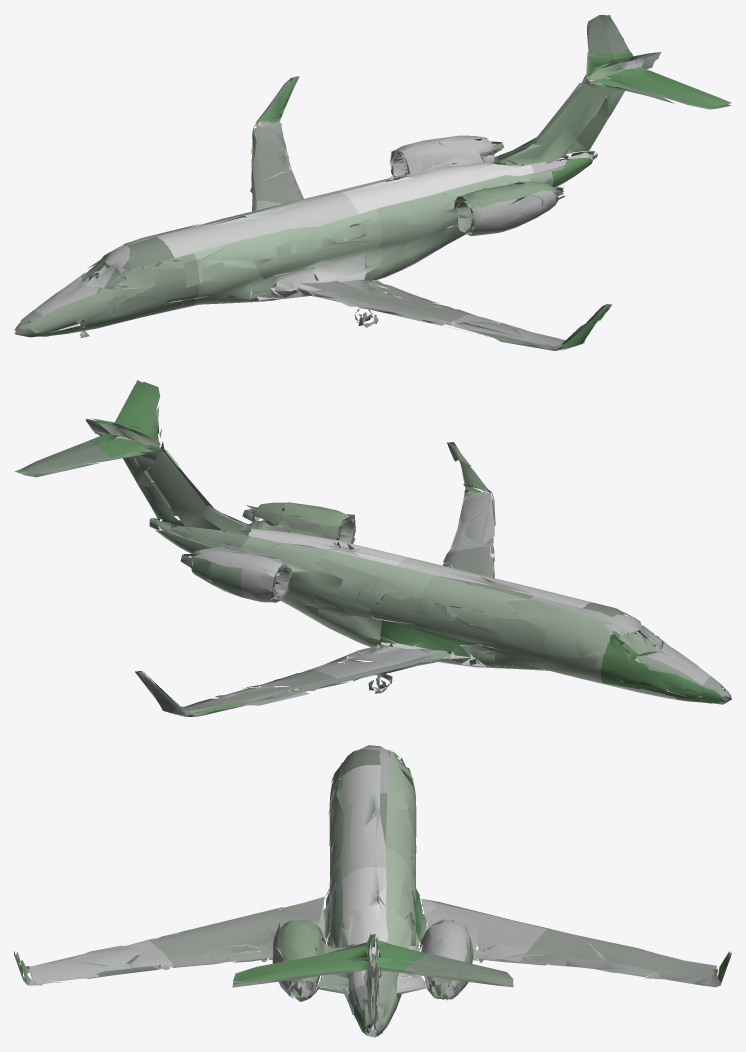
Rendered from gbjet.glb.
The picture shows the model from 3 angles, top to bottom: view 1: azimuth 30°, elevation 25°; view 2: azimuth 150°, elevation 25°; view 3: azimuth 270°, elevation 25°; orthographic projection. The views are drawn at different scales.
Parts seen in each view (by area): view 1: LO.001; view 2: LO.001; view 3: LO.001.
Part boxes in pixels (left/top/right/bottom): LO.001: left=14, top=14, right=731, bottom=350; LO.001: left=14, top=380, right=731, bottom=716; LO.001: left=14, top=745, right=731, bottom=1037.
Size of the model in its own units: 1.9 by 0.4869 by 1.57.
1 material, 1 textured.
